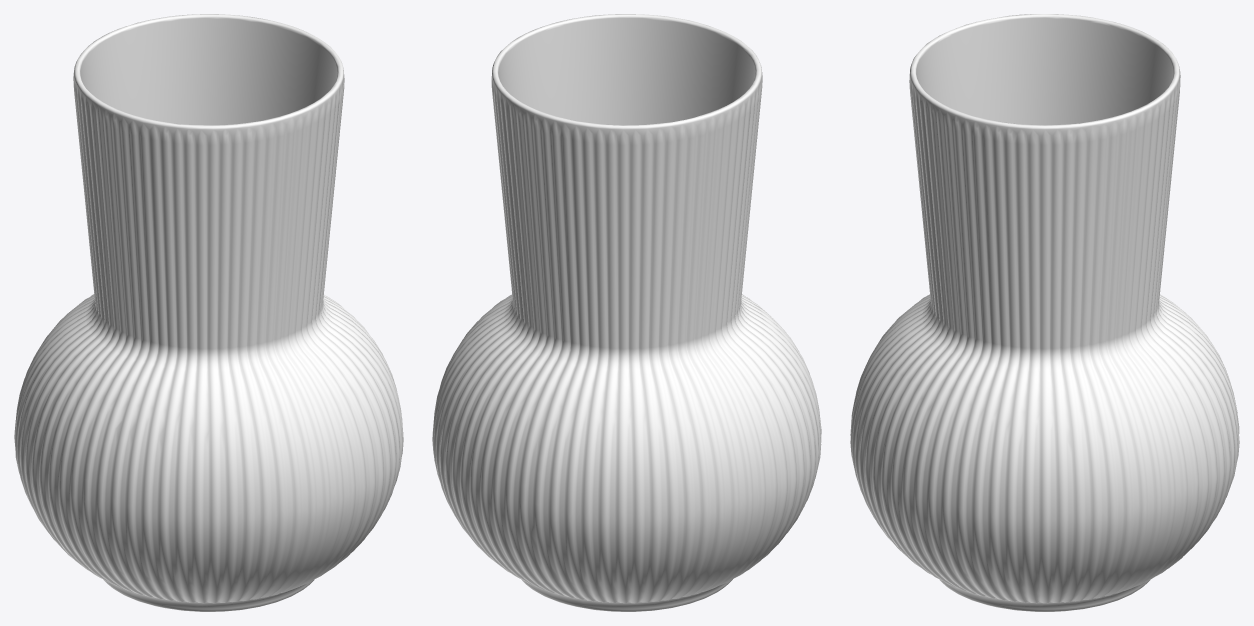
File: padrag_wazon_10470991.glb
3 views of the same model, side by side, from view 1: azimuth 30°, elevation 25°; view 2: azimuth 150°, elevation 25°; view 3: azimuth 270°, elevation 25° (orthographic).
Visible parts, largest first — view 1: padrag_wazon_10470991; view 2: padrag_wazon_10470991; view 3: padrag_wazon_10470991.
Boxes of the visible parts, x1,y1,x2,y2 form: padrag_wazon_10470991: (14,14,403,611); padrag_wazon_10470991: (432,14,821,611); padrag_wazon_10470991: (850,14,1239,611).
Size of the model in its own units: 0.121 by 0.1701 by 0.121.
Materials: 1 (1 with a texture image).
